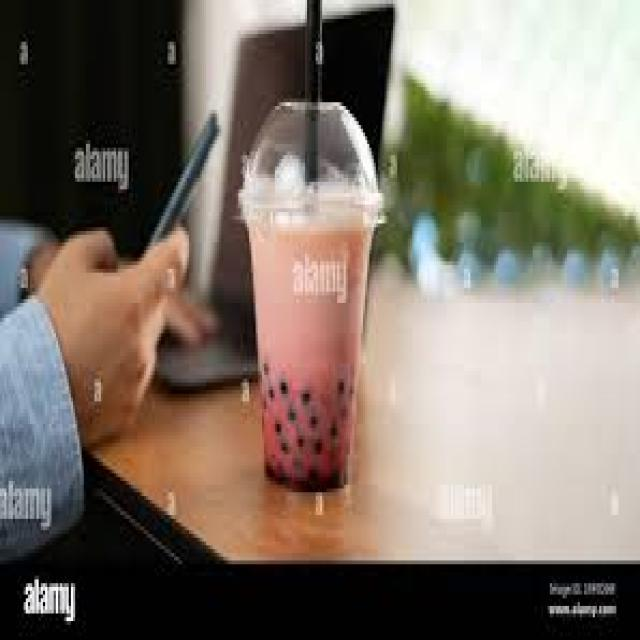bottle: (243, 190, 379, 488)
